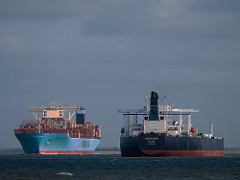container_ship: (13, 100, 102, 155)
tanker: (119, 90, 226, 157)
